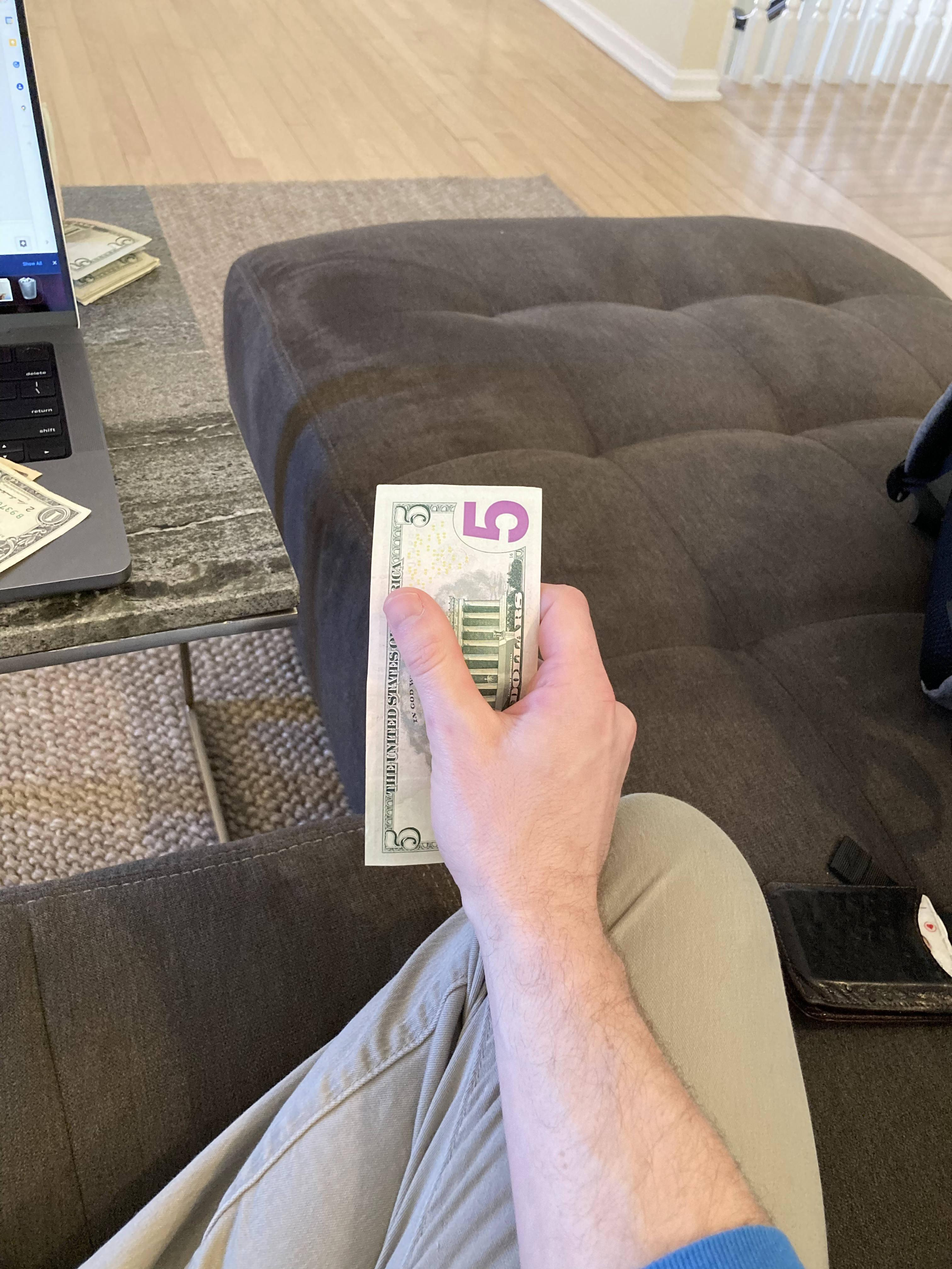five-back: (363, 484, 547, 868)
